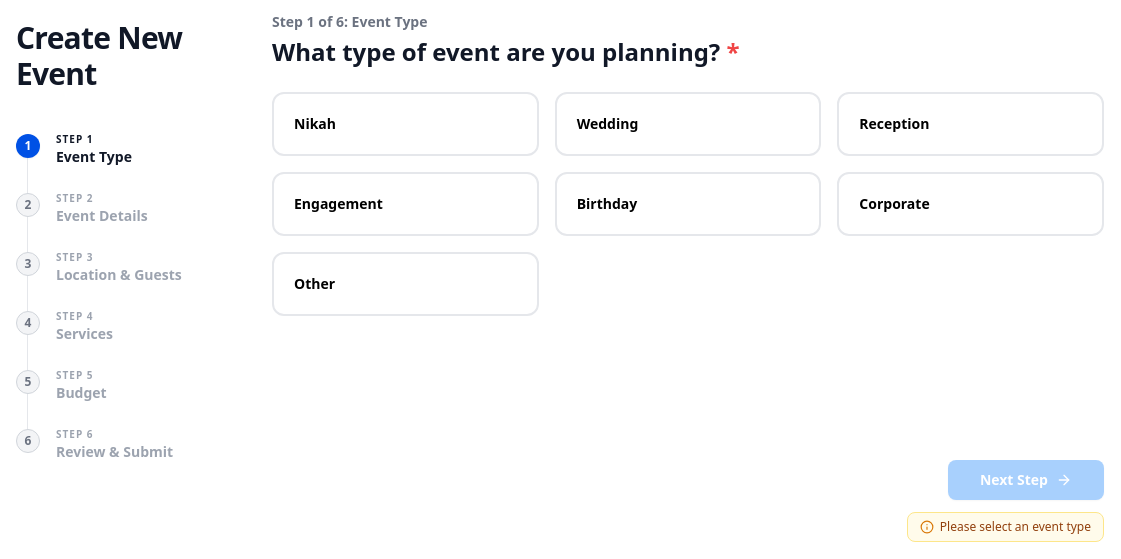
it: CreateEventWizard Component › prevents navigating next if invalid
This screenshot has width=1121, height=559.
Expected: the heading "What type of event are you planning? *" is shown, [272,35,740,68]
Expected: the button "Next Step" is disabled, [948,460,1104,500]
Click the button "Wedding" at coordinates (607, 124), box [555,92,821,156]
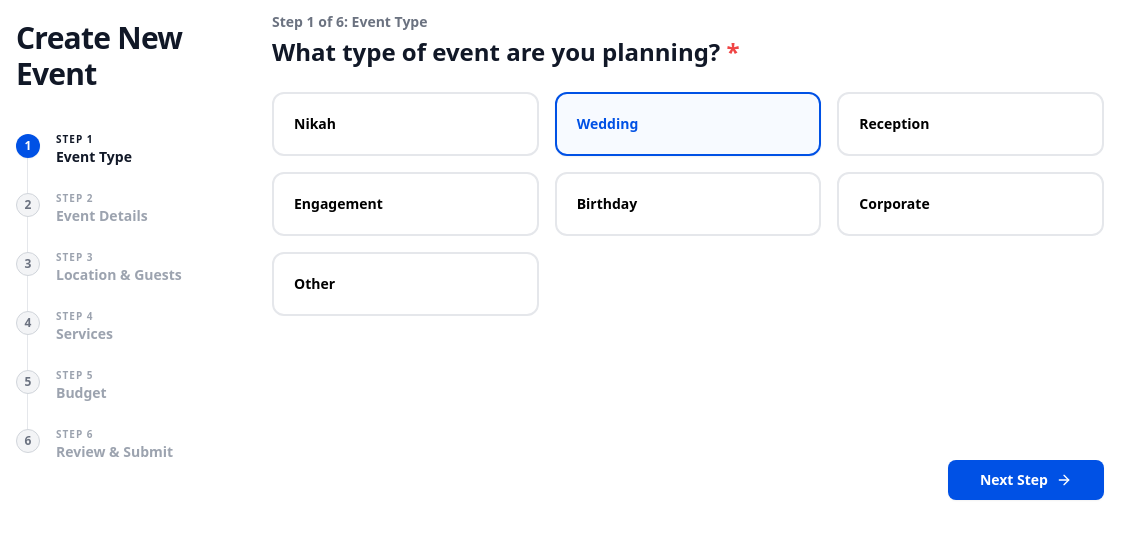
Expected: the button "Next Step" is enabled, [948,460,1104,500]
